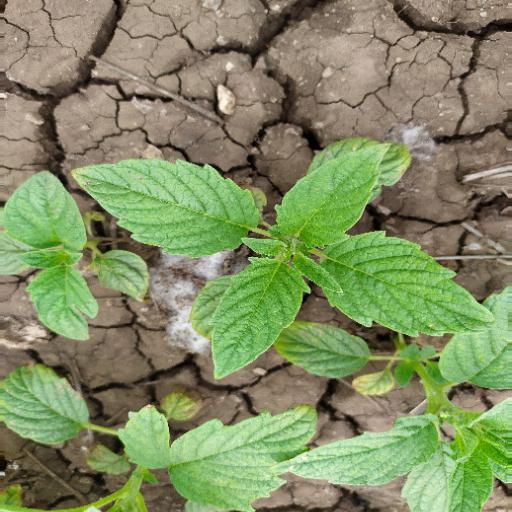crop: (63, 133, 500, 388), (317, 289, 508, 512)
